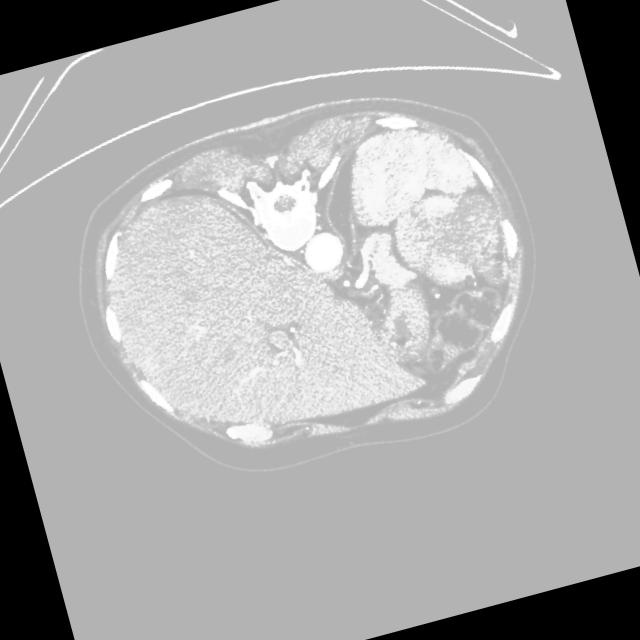TUMOR: (304, 106, 593, 365)
